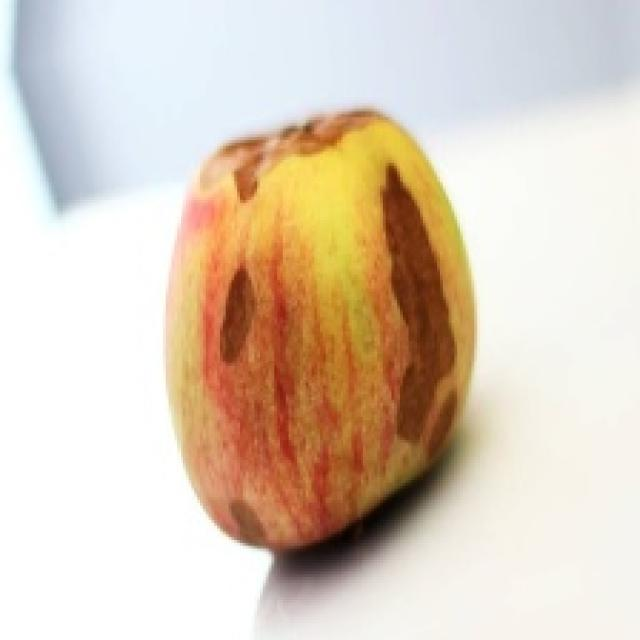rotten_apple: (170, 112, 473, 548)
